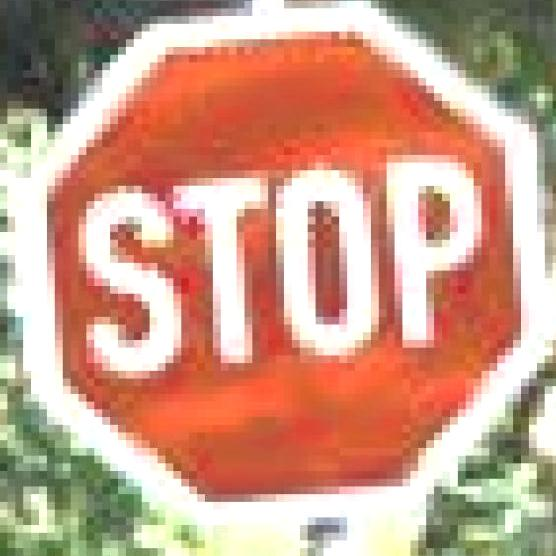stop_sign: (15, 0, 556, 517)
